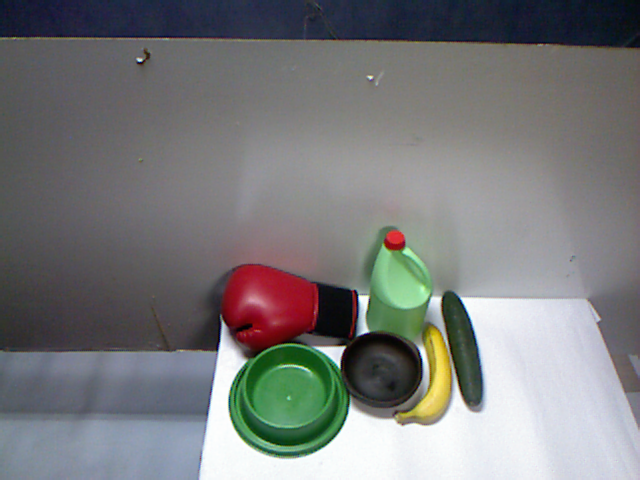borrador: (373, 377, 469, 428)
cubix: (316, 346, 360, 397)
greda: (374, 301, 467, 379)
linterna: (309, 292, 374, 358)
pepino: (221, 388, 376, 438)
sarten: (178, 293, 319, 445)
